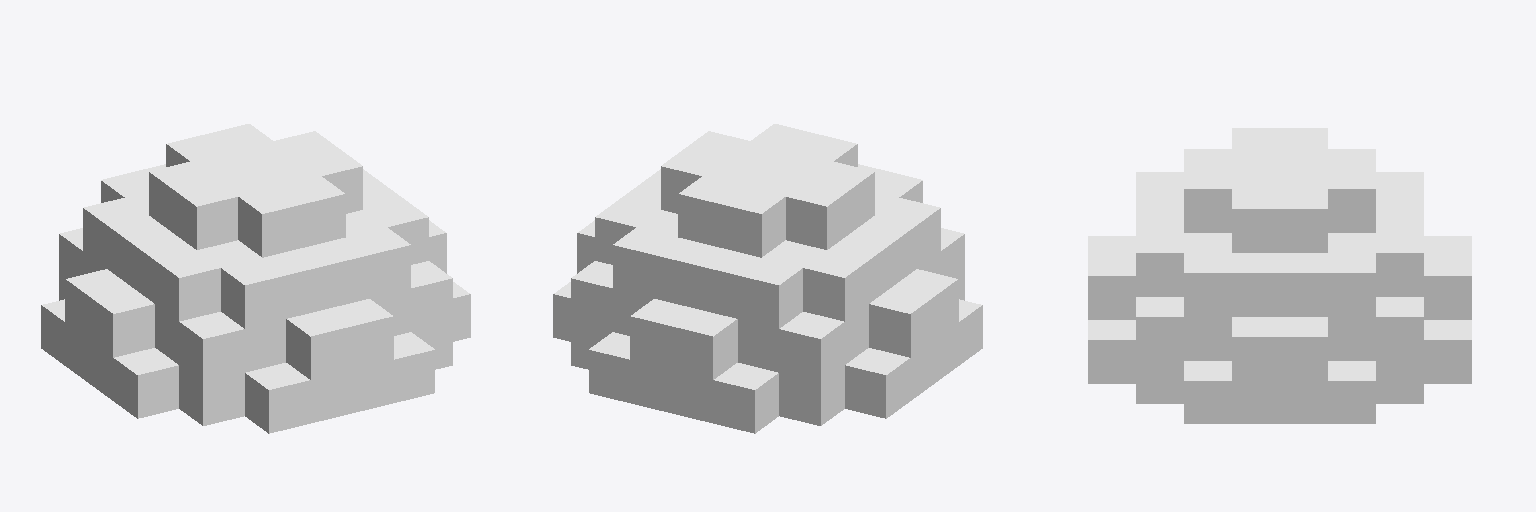
File: GoldOre.obj
3 views of the same model, side by side, from view 1: azimuth 30°, elevation 25°; view 2: azimuth 150°, elevation 25°; view 3: azimuth 270°, elevation 25° (orthographic).
Size of the model in its own units: 8 by 4 by 8.